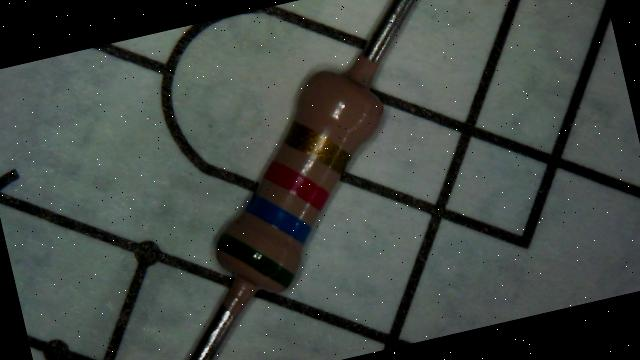blue: (243, 184, 315, 253)
gold: (280, 112, 354, 183)
green: (214, 219, 297, 302)
red: (261, 151, 332, 220)
resistor: (182, 42, 410, 333)
